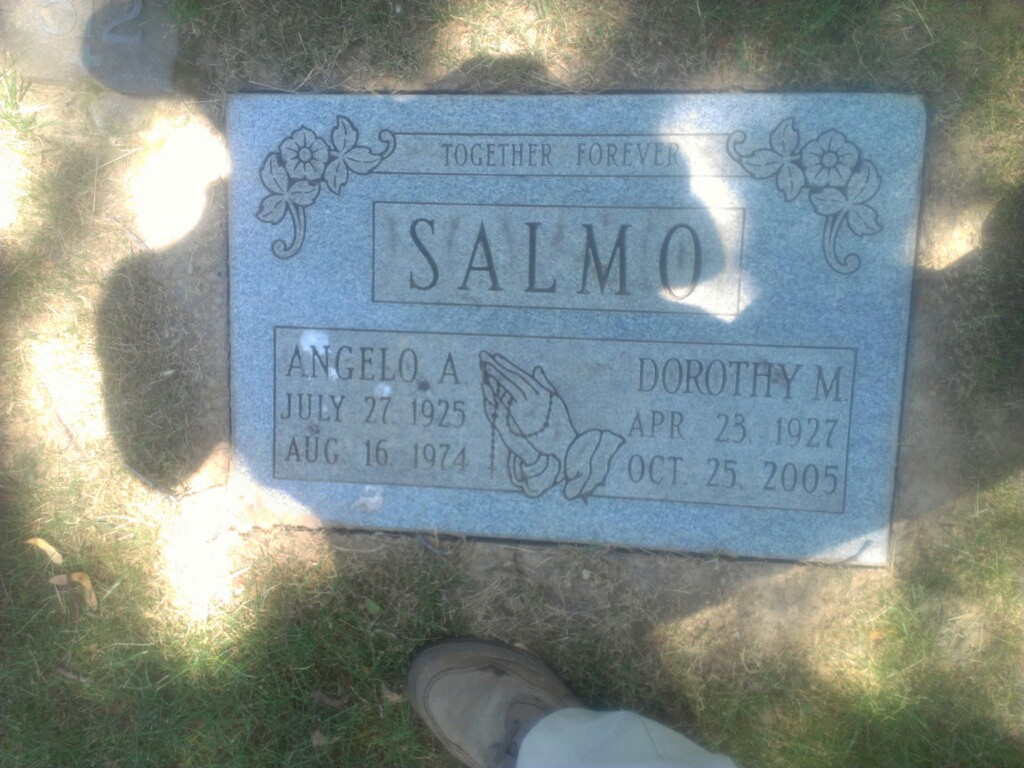flat: (226, 90, 928, 572)
